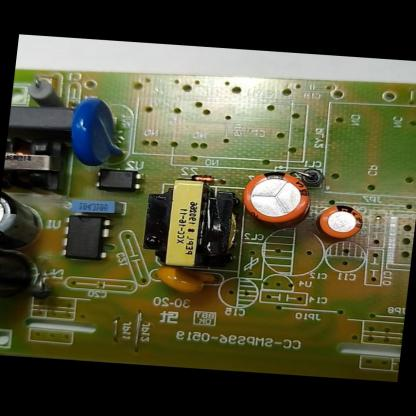Cap1: (236, 164, 316, 228)
Cap2: (312, 201, 367, 241)
Cap3: (0, 186, 52, 247)
Cap4: (0, 245, 43, 303)
MOSFET: (55, 212, 116, 264)
Mov: (64, 94, 132, 168)
Resistor: (22, 73, 73, 109)
Transformer: (138, 175, 245, 272), (1, 133, 72, 197)
